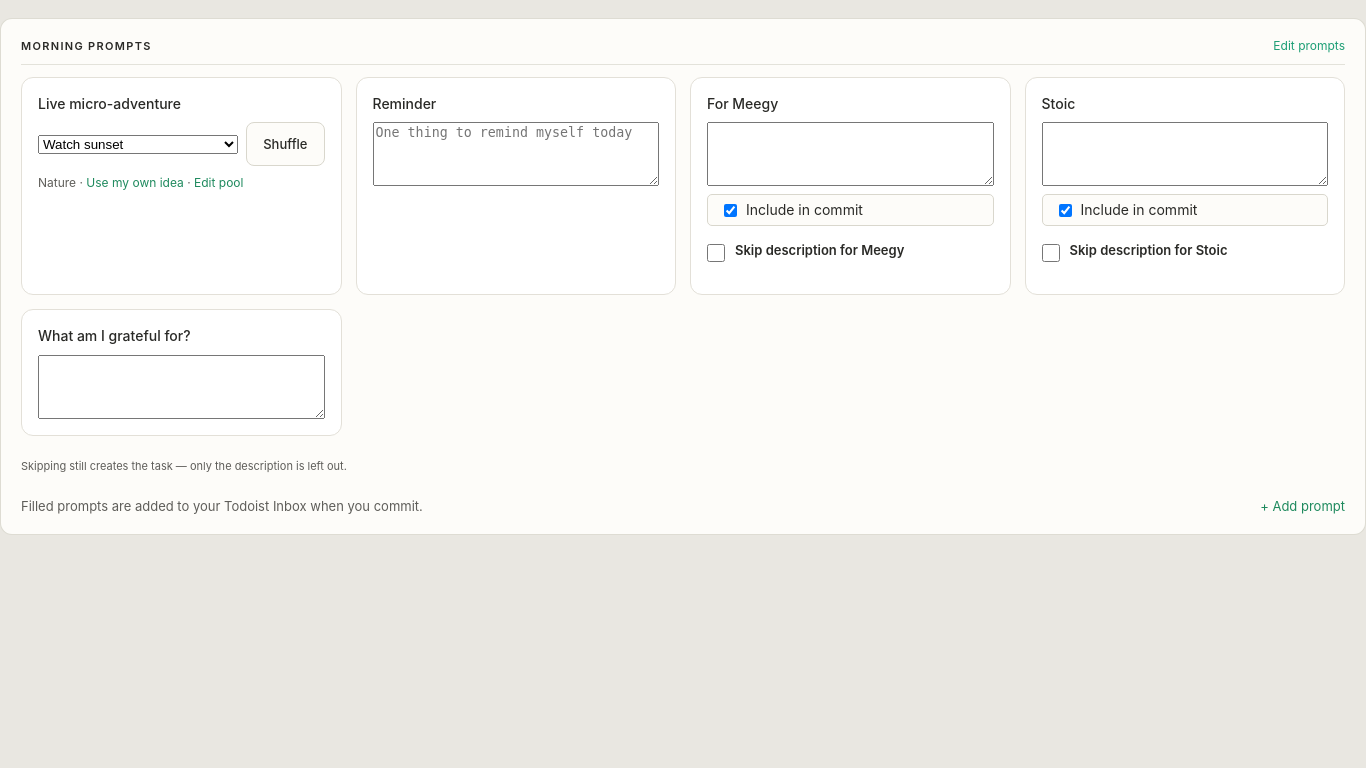
Test: PromptsCard Reminder copy › names Reminder in the built-in note when custom prompts exist
Step 1. Click the button "Edit prompts" → click(1309, 46), box [1273,37,1345,54]
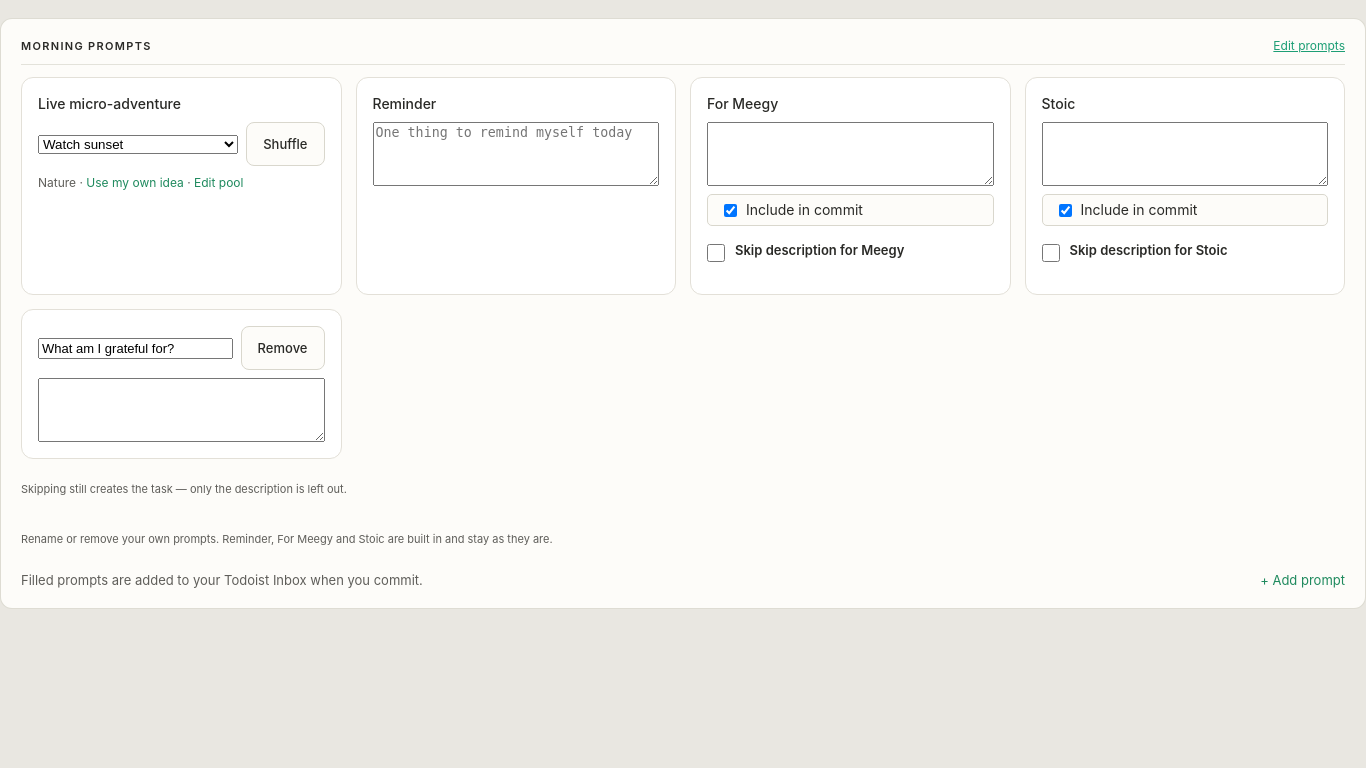
Expected: the text "Rename or remove your own prompts. Reminder, For Meegy and Stoic are built in" is shown, [21,532,553,546]
